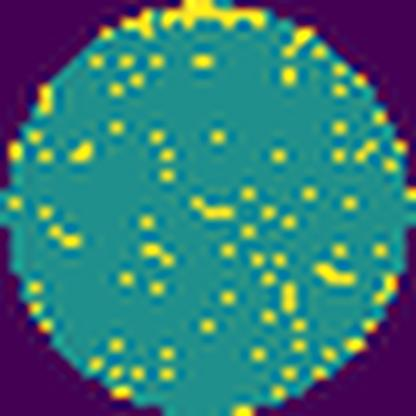Edge-Loc: (162, 0, 272, 33)
